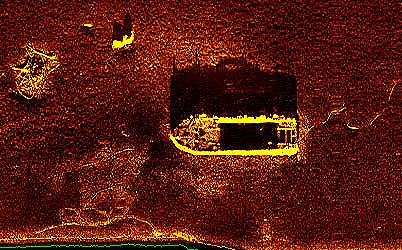ship: (167, 111, 301, 158)
